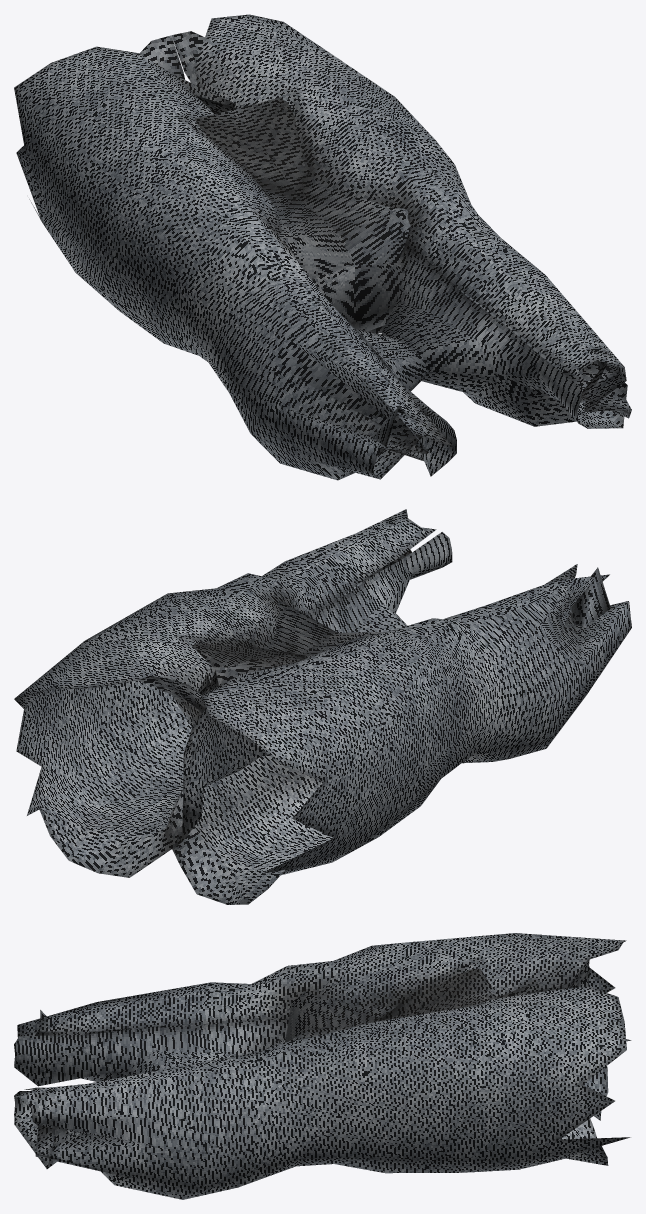
File: jambieres_acier_nordique.glb
3 views of the same model, one above another, from view 1: azimuth 30°, elevation 25°; view 2: azimuth 150°, elevation 25°; view 3: azimuth 270°, elevation 25° (orthographic). The views are drawn at different scales.
Visible parts, largest first — view 1: jambieres_acier_nordique; view 2: jambieres_acier_nordique; view 3: jambieres_acier_nordique.
Boxes of the visible parts, left/top/right/bottom form: jambieres_acier_nordique: left=14, top=14, right=631, bottom=480; jambieres_acier_nordique: left=14, top=509, right=631, bottom=904; jambieres_acier_nordique: left=14, top=933, right=631, bottom=1199.
Size of the model in its own units: 0.4195 by 0.2762 by 0.8328.
Materials: 1 (1 with a texture image).
